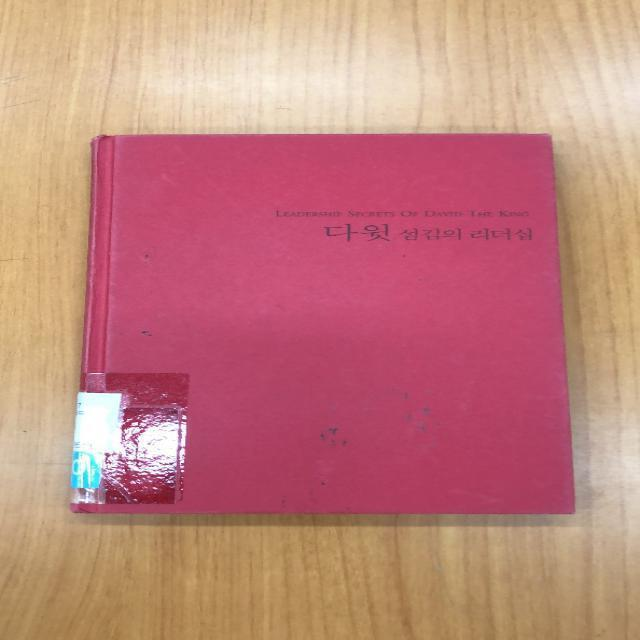Wornout: (208, 132, 306, 139), (86, 128, 126, 145)
